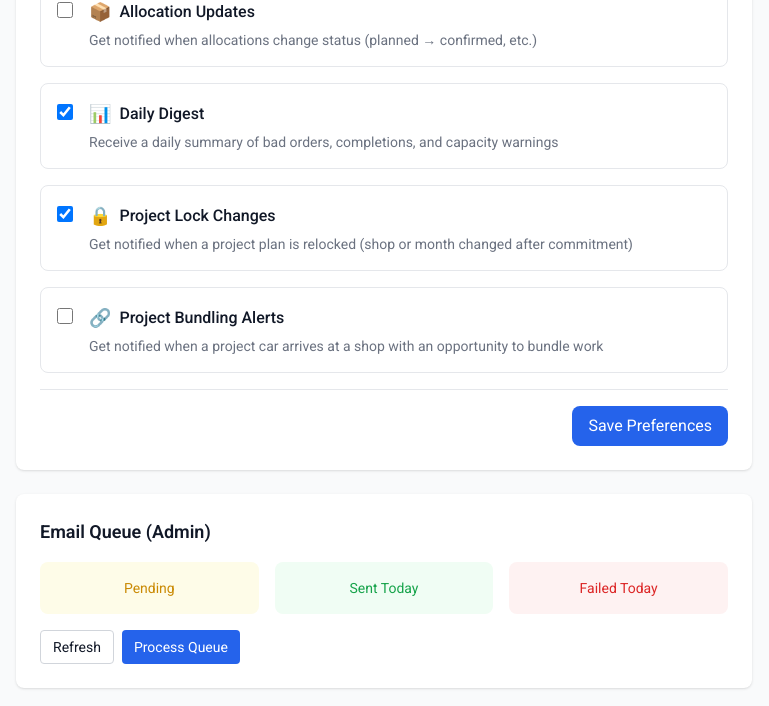
SettingsPage › shows success message after saving
(page scrolled)
Click the button "Save Preferences".
click(650, 426)  # box [572,406,728,446]
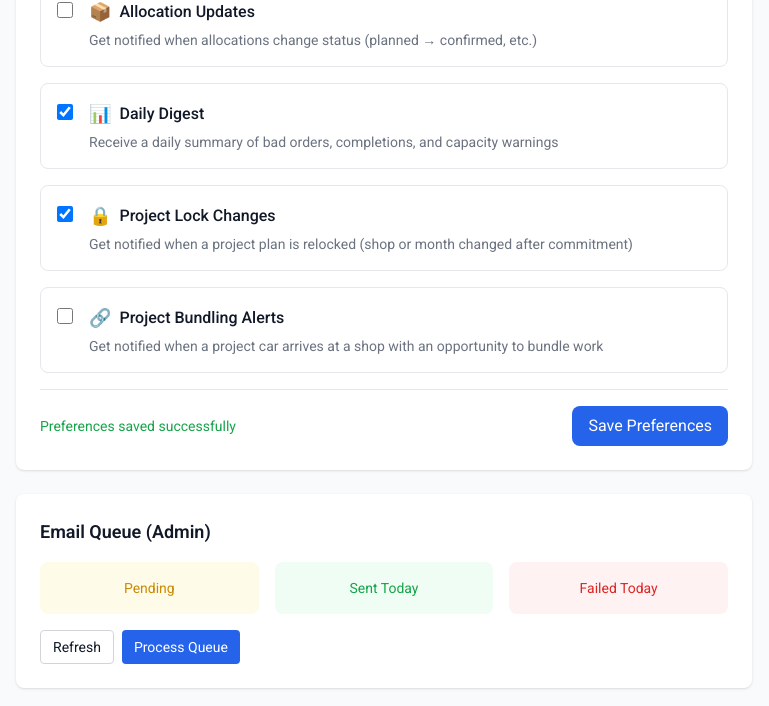
Now the text "Preferences saved successfully" is shown, box [40,416,236,436]
